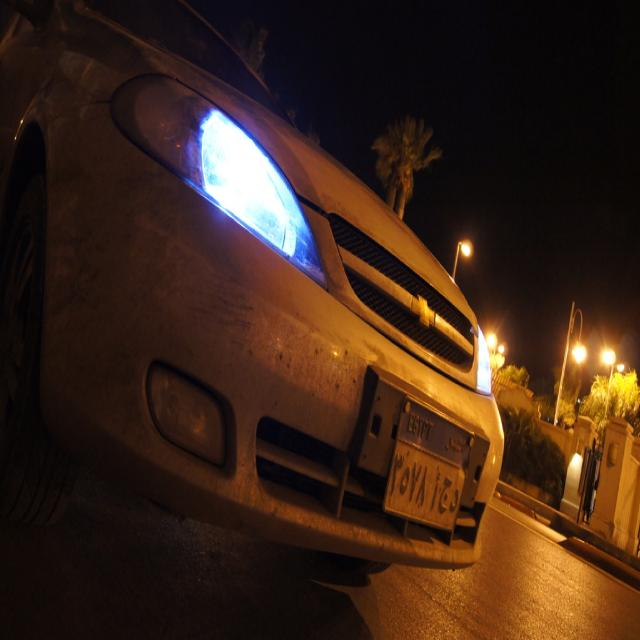car: (43, 30, 505, 593)
